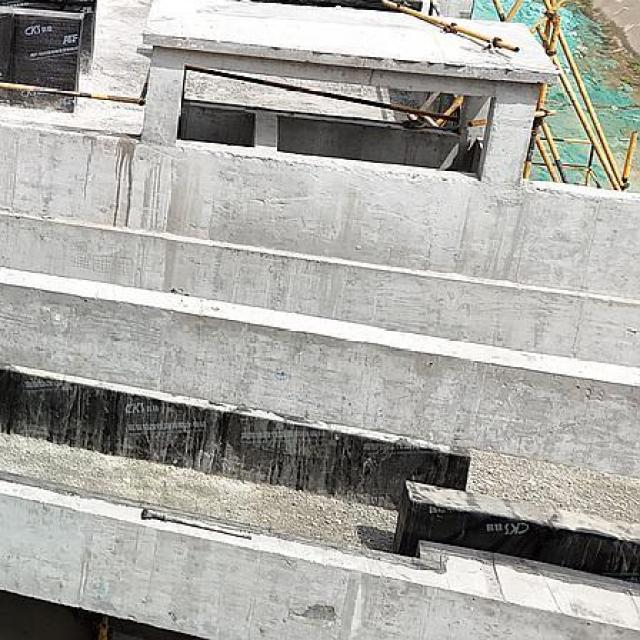edge_guardrail: (184, 66, 460, 124), (0, 68, 151, 105)
